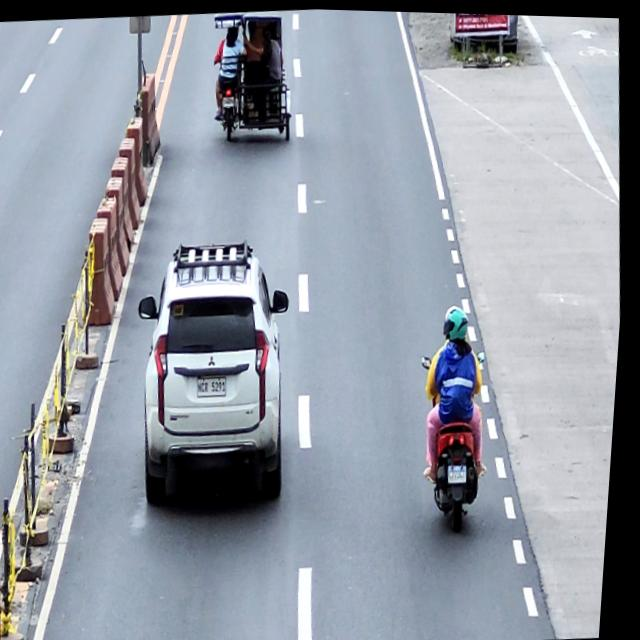Car: (127, 234, 309, 507)
License-Plate: (201, 375, 232, 396), (452, 460, 474, 481), (223, 95, 236, 105)
Motorcycle: (417, 346, 502, 532)
Tricycle: (207, 6, 301, 145)
